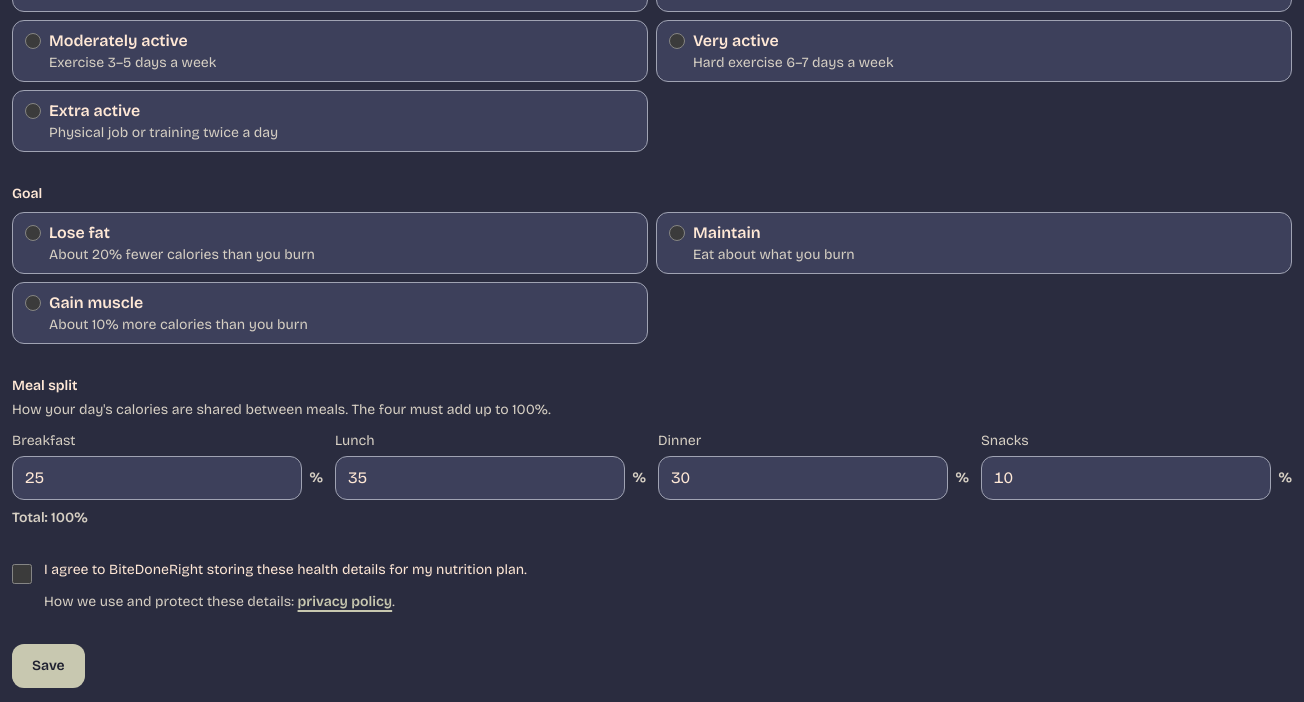
it: ProfileForm › says when saving failed
(page scrolled)
Click the button "Save".
click(48, 666)  # box [12, 644, 85, 688]
(page scrolled)
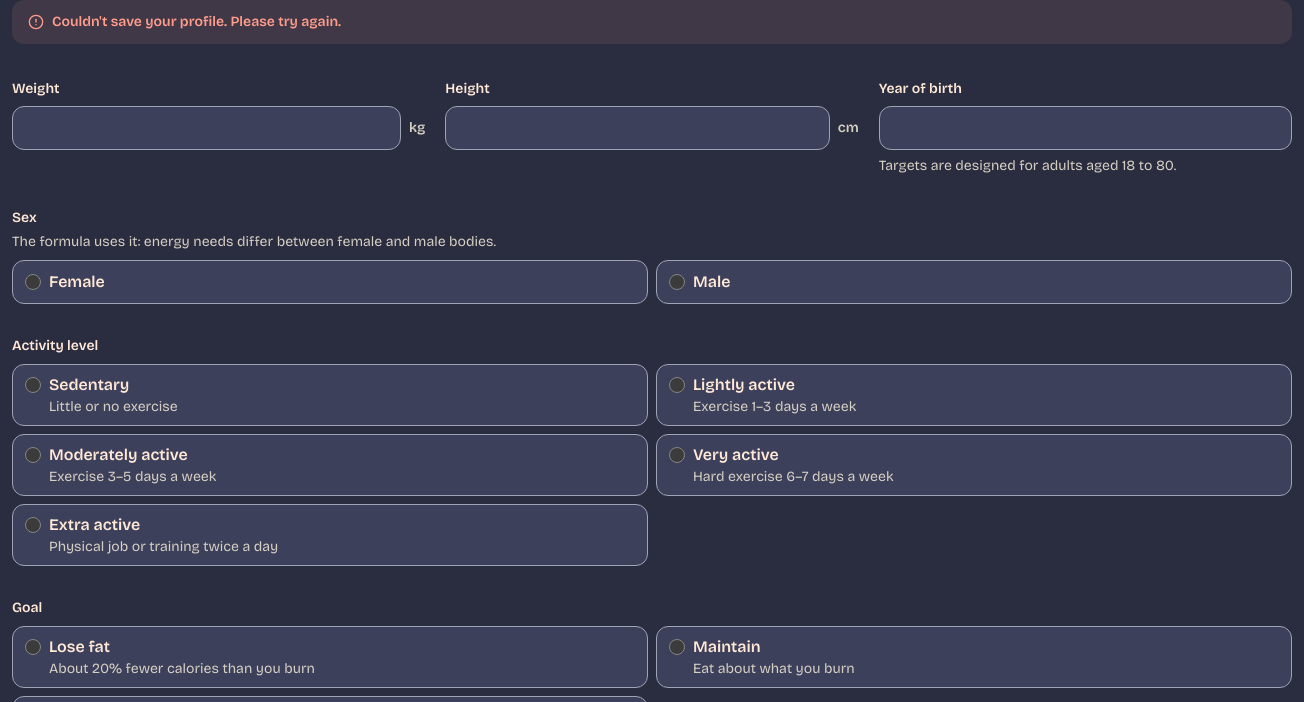
Check: the message shows "Couldn't save your profile", box [52, 13, 341, 30]
